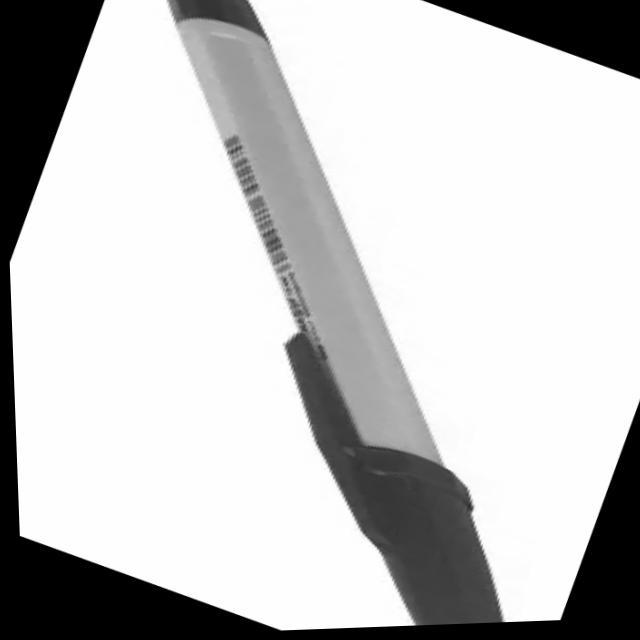pencil: (154, 0, 496, 640)
